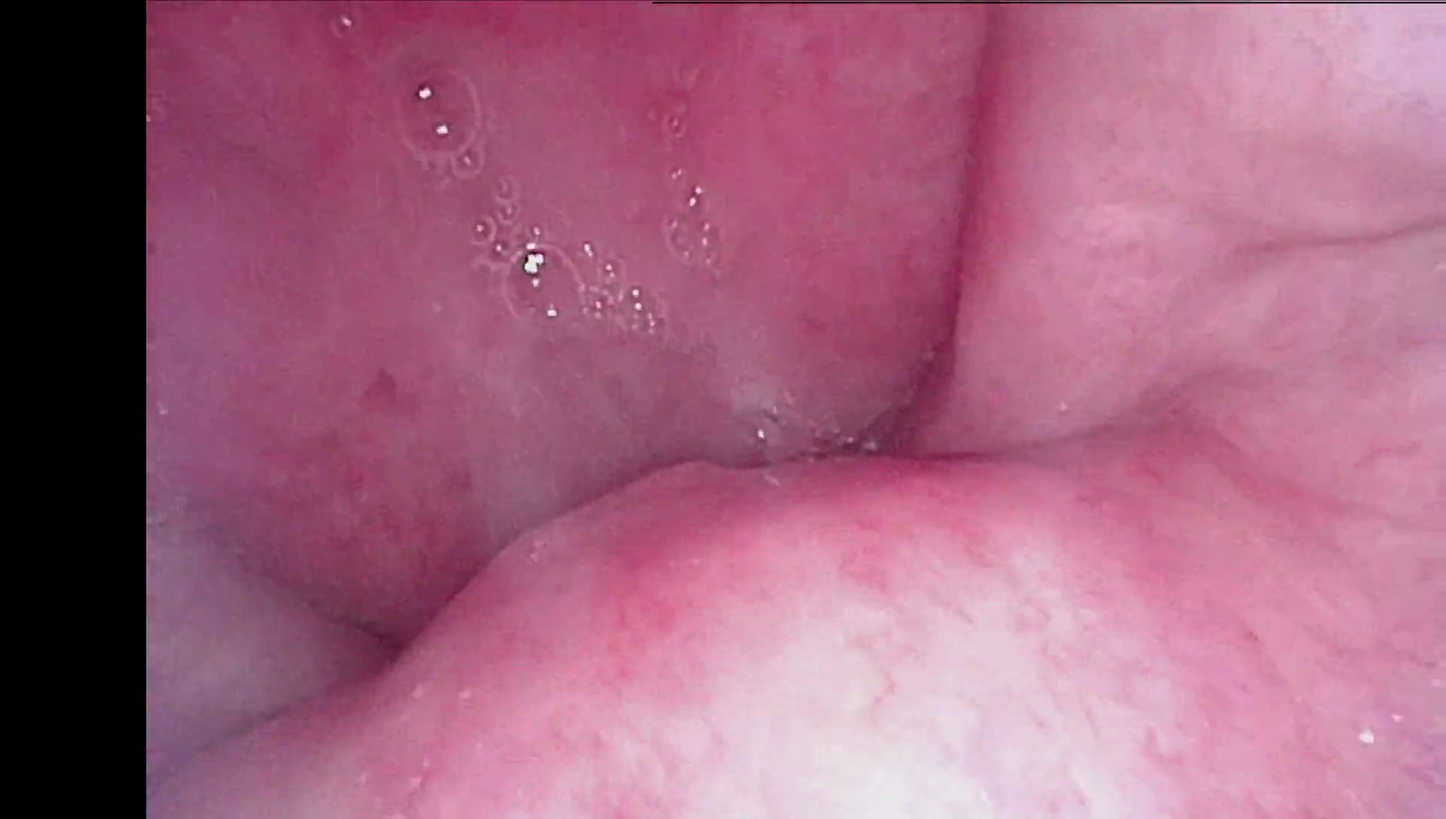close_wall: (553, 550, 1370, 819), (1154, 0, 1446, 184)
